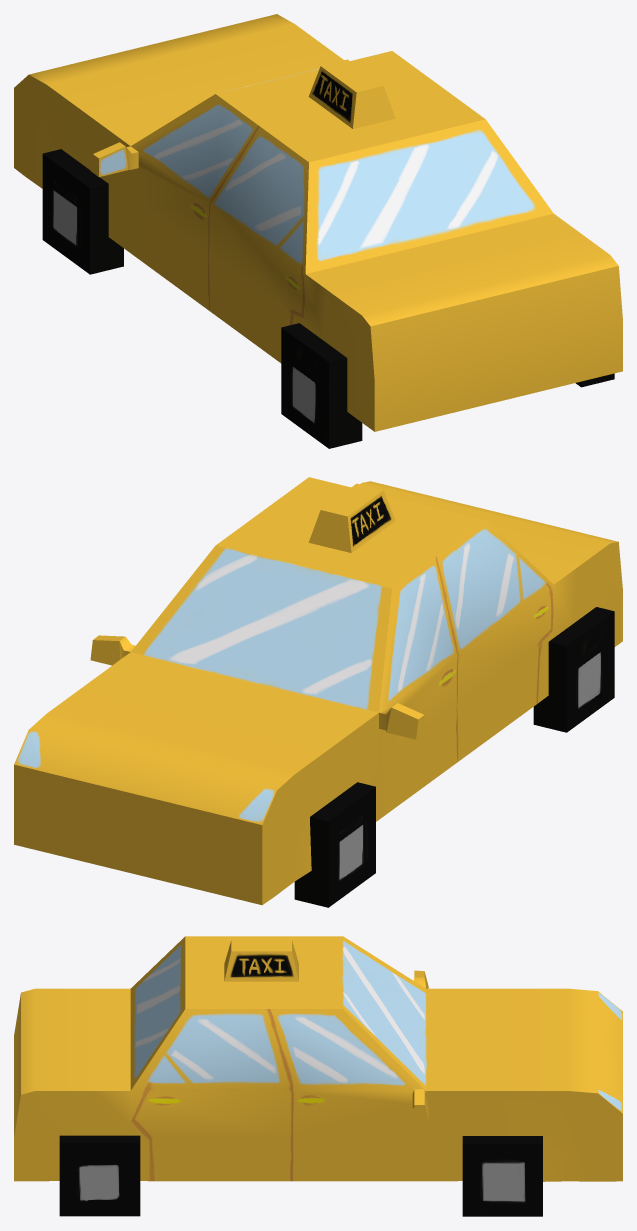
The model's file is Taxi_texture.fbx.
The picture shows the model from 3 angles, top to bottom: view 1: azimuth 30°, elevation 25°; view 2: azimuth 150°, elevation 25°; view 3: azimuth 270°, elevation 25°; orthographic projection. The views are drawn at different scales.
Parts seen in each view (by area): view 1: Taxi; view 2: Taxi; view 3: Taxi.
Part boxes in pixels (x1,y1,x2,y2): Taxi: [14, 14, 622, 448]; Taxi: [14, 477, 622, 907]; Taxi: [14, 936, 622, 1216].
Size of the model in its own units: 1276 by 940 by 2447.
